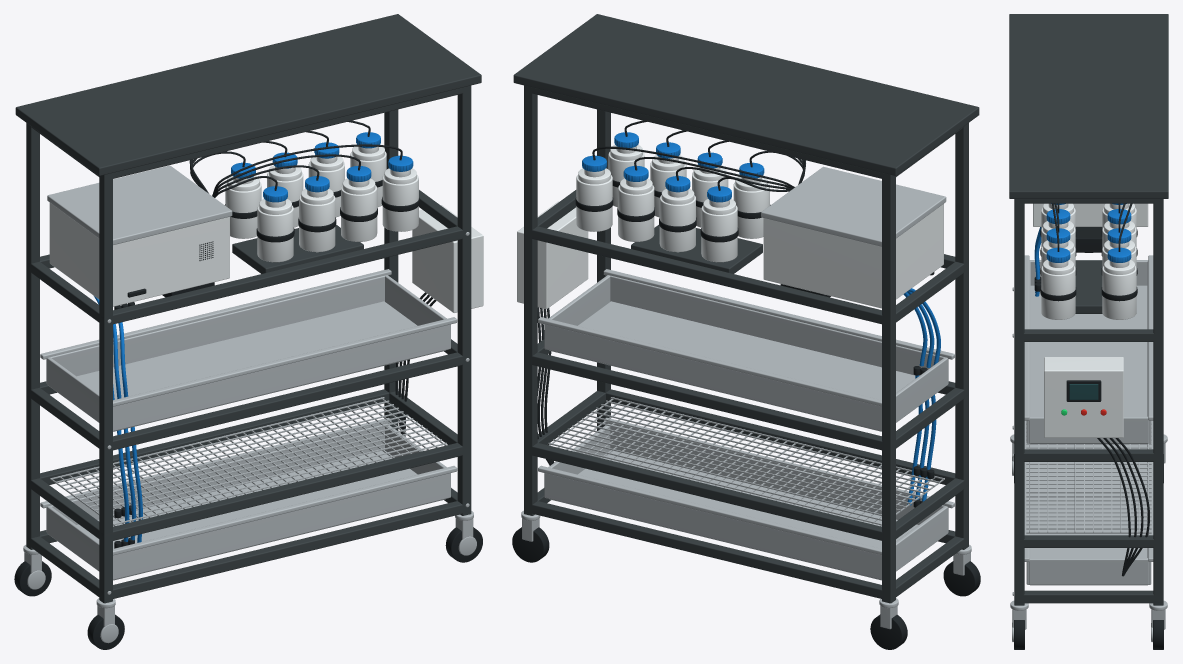
The model's file is hydroponic-rack.glb.
3 views of the same model, side by side, from view 1: azimuth 30°, elevation 25°; view 2: azimuth 150°, elevation 25°; view 3: azimuth 270°, elevation 25° (orthographic). The views are drawn at different scales.
Parts seen in each view (by area): view 1: Frame upright, Caster hub, Dosing enclosure, Caster tire, Blue screw cap; view 2: Frame upright, Caster hub, Dosing enclosure, Caster tire, Blue screw cap; view 3: Frame upright, Caster hub, Dosing enclosure, Caster tire, Blue screw cap, Controller display.
Boxes of the visible parts, box(x1,y1,x2,y2) form: Frame upright: box(15, 14, 481, 603); Caster hub: box(23, 165, 476, 643); Dosing enclosure: box(49, 146, 483, 312); Caster tire: box(14, 120, 482, 649); Blue screw cap: box(94, 132, 413, 542); Frame upright: box(513, 14, 979, 603); Caster hub: box(521, 166, 971, 629); Dosing enclosure: box(517, 145, 943, 309); Caster tire: box(512, 120, 980, 649); Blue screw cap: box(582, 132, 940, 505); Frame upright: box(1009, 14, 1168, 605); Caster hub: box(1010, 255, 1167, 642); Dosing enclosure: box(1033, 203, 1148, 437); Caster tire: box(1014, 203, 1163, 649); Blue screw cap: box(1034, 203, 1131, 296); Controller display: box(1069, 384, 1098, 399).
Size of the model in its own units: 1.33 by 1.51 by 0.47.
